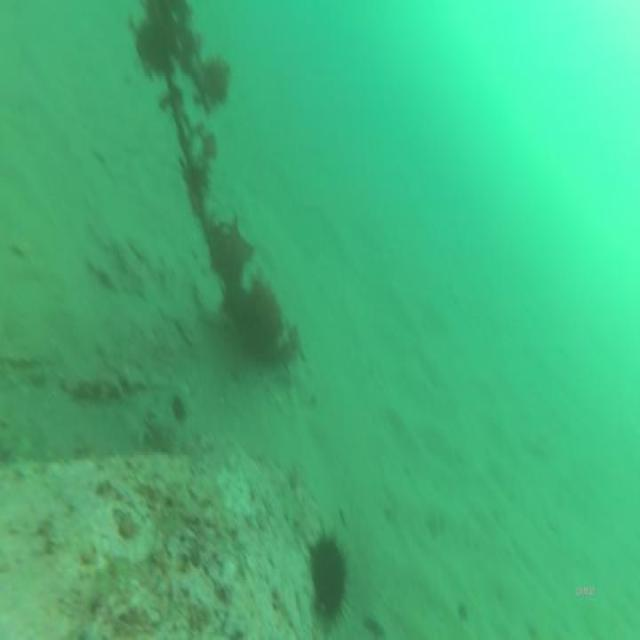echinus: (310, 534, 348, 615)
